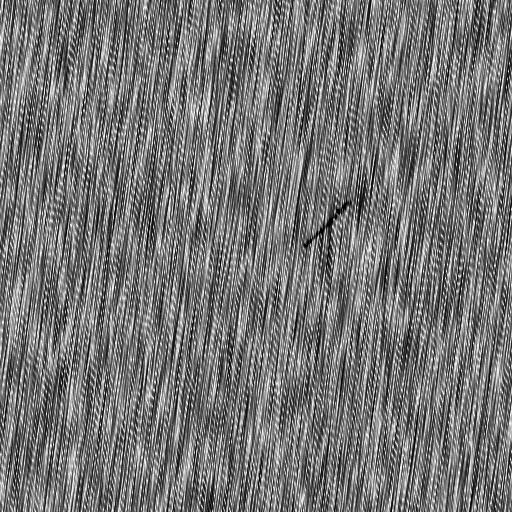DefectTypeC: (301, 199, 354, 247)
